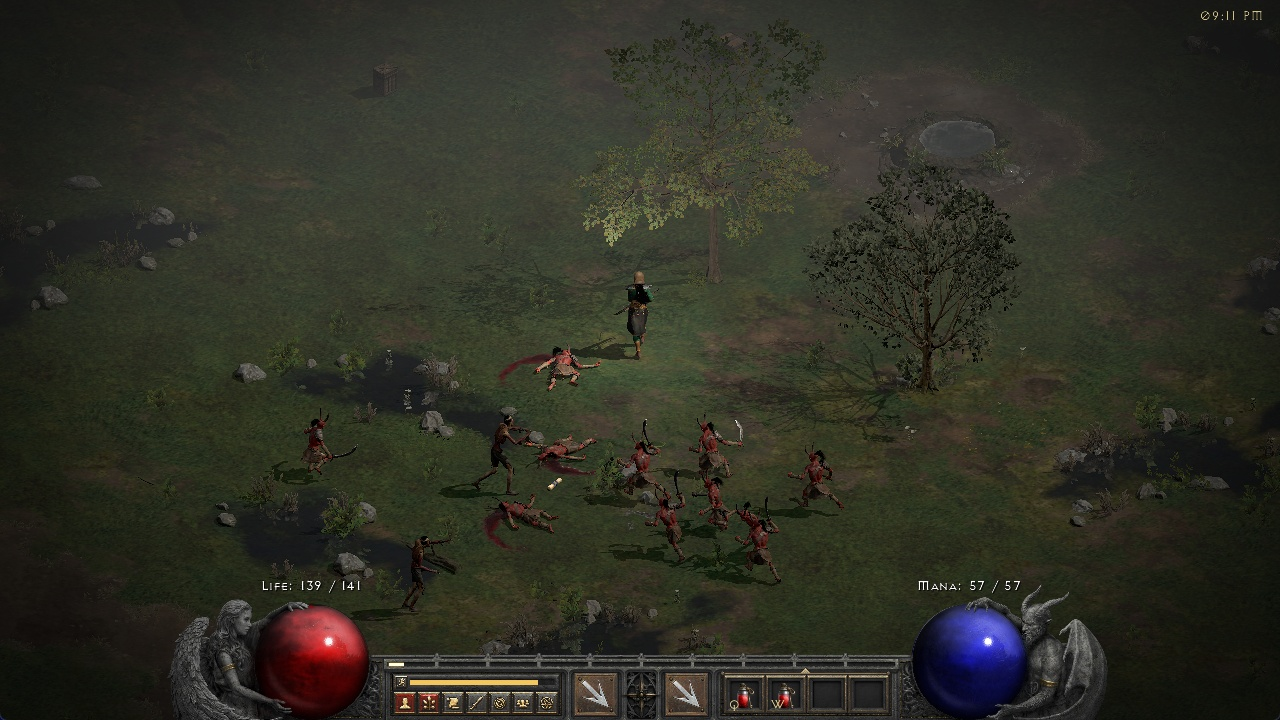fallen: (646, 479, 693, 559), (687, 413, 746, 474), (790, 447, 843, 508), (743, 502, 782, 582), (303, 408, 345, 479), (696, 474, 741, 535), (626, 424, 658, 479)
